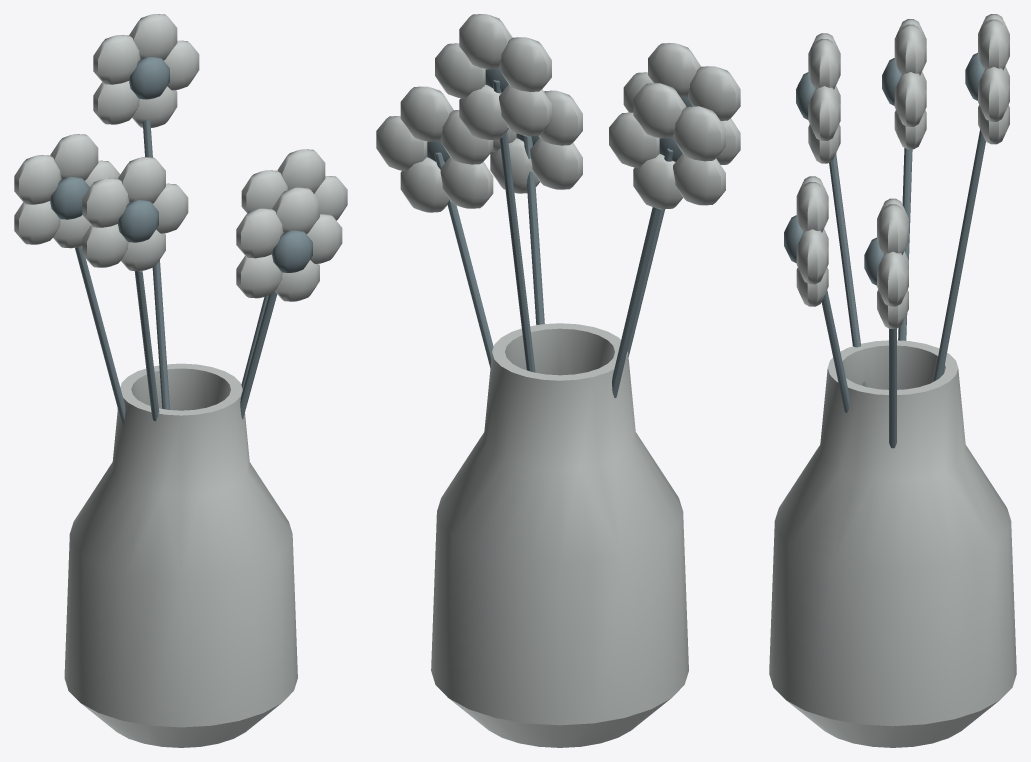
The model's file is vase-flowers.glb.
The picture shows the model from 3 angles, left to right: view 1: azimuth 30°, elevation 25°; view 2: azimuth 150°, elevation 25°; view 3: azimuth 270°, elevation 25°; orthographic projection. The views are drawn at different scales.
Visible parts, largest first — view 1: vase, flower_petal.017, flower_petal.022, flower_petal.012, flower_petal.007, flower_petal.011, flower_petal.021, flower_petal.016, flower_petal.006, flower_petal.013, flower_petal.023, flower_petal.008 (+19 smaller); view 2: vase, flower_petal.012, flower_petal.022, flower_stem.002, flower_petal.001, flower_petal.021, flower_petal.011, flower_petal.007, flower_petal.003, flower_petal.018, flower_petal.013, flower_petal.023 (+15 smaller); view 3: vase, flower_stem.002, flower_stem.001, flower_petal.015, flower_petal.020, flower_petal.005, flower_petal.010, flower_petal, flower_petal.021, flower_petal.016, flower_petal.006, flower_petal.001 (+14 smaller).
Part boxes in pixels (<box>): vase: <box>64,363,297,747</box>; flower_petal.017: <box>236,208,283,258</box>; flower_petal.022: <box>14,155,61,204</box>; flower_petal.012: <box>93,35,140,84</box>; flower_petal.007: <box>82,178,129,227</box>; flower_petal.011: <box>129,14,177,60</box>; flower_petal.021: <box>50,134,98,180</box>; flower_petal.016: <box>272,187,319,233</box>; flower_petal.006: <box>118,157,165,203</box>; flower_petal.013: <box>93,81,139,124</box>; flower_petal.023: <box>14,201,60,244</box>; flower_petal.008: <box>82,224,128,267</box>; vase: <box>431,323,688,747</box>; flower_petal.012: <box>499,37,551,91</box>; flower_petal.022: <box>673,106,725,161</box>; flower_stem.002: <box>492,80,535,372</box>; flower_petal.001: <box>400,86,453,141</box>; flower_petal.021: <box>633,83,686,138</box>; flower_petal.011: <box>459,14,512,69</box>; flower_petal.007: <box>688,66,740,120</box>; flower_petal.003: <box>440,157,493,208</box>; flower_petal.018: <box>530,138,582,189</box>; flower_petal.013: <box>499,84,551,136</box>; flower_petal.023: <box>673,154,725,205</box>; vase: <box>769,340,1016,747</box>; flower_stem.002: <box>933,129,985,381</box>; flower_stem.001: <box>829,153,866,386</box>; flower_petal.015: <box>796,229,828,284</box>; flower_petal.020: <box>894,72,926,126</box>; flower_petal.005: <box>808,86,840,140</box>; flower_petal.010: <box>978,67,1009,121</box>; flower_petal: <box>877,251,908,306</box>; flower_petal.021: <box>894,24,926,75</box>; flower_petal.016: <box>796,182,828,232</box>; flower_petal.006: <box>808,39,840,89</box>; flower_petal.001: <box>877,204,908,254</box>.
Size of the model in its own units: 0.3485 by 0.6893 by 0.22.
